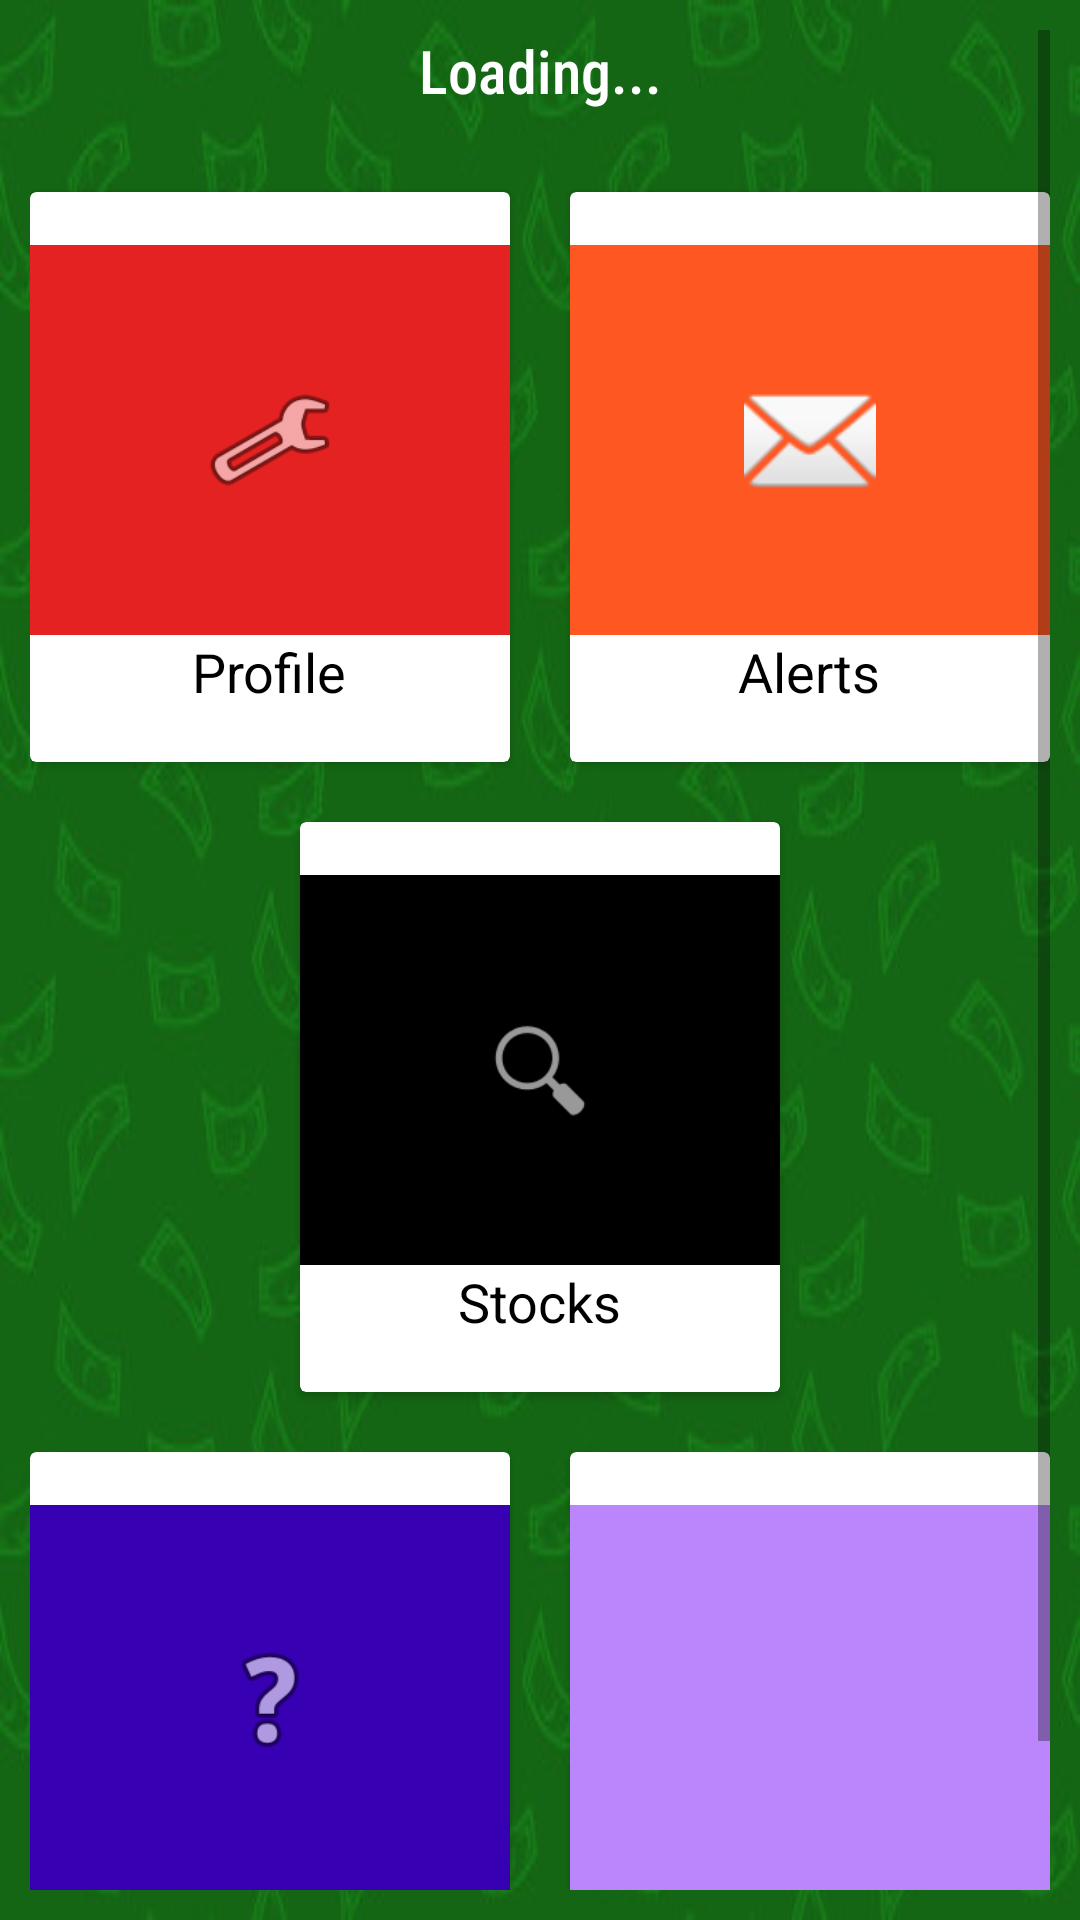

Locate icon controls on the screen. Image size 1080 × 1920, boxes as (x1, y1, x2, y2).
email: (744, 394, 876, 488)
help: (241, 1653, 299, 1747)
manage: (210, 395, 330, 485)
search: (495, 1026, 585, 1116)
